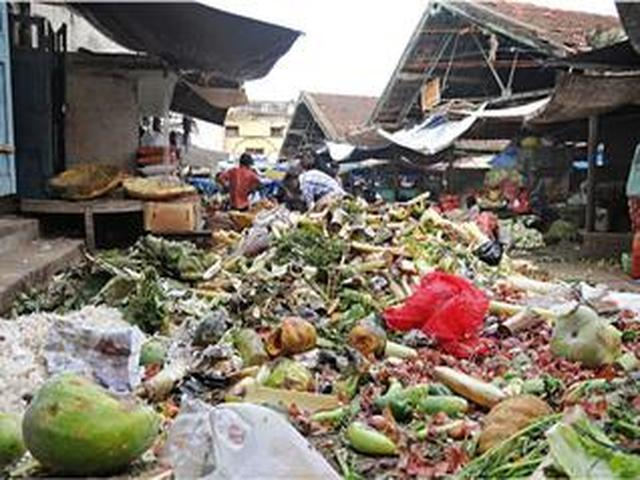garbage: (110, 249, 551, 462)
